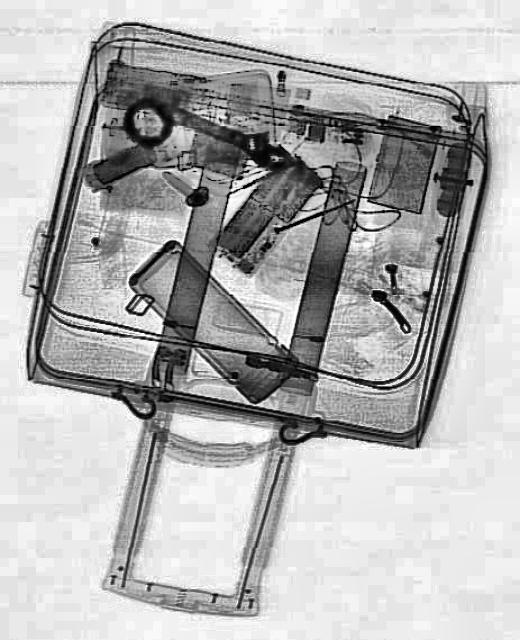Wrench: (149, 86, 295, 174)
